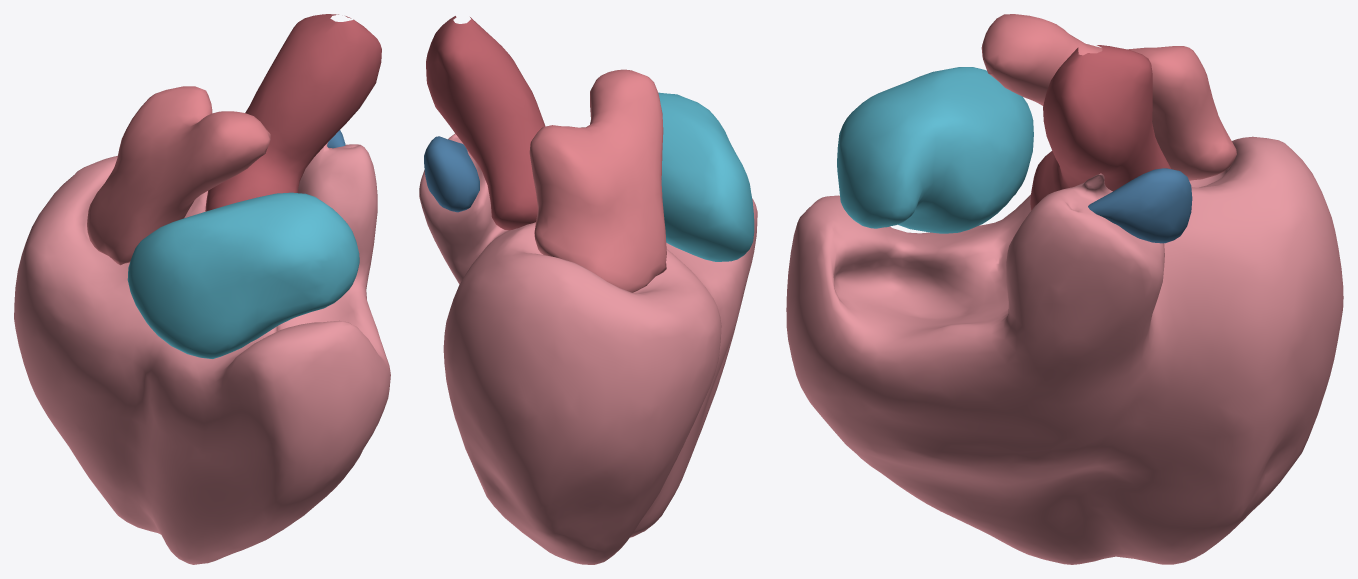
The model's file is frame_44.glb.
3 views of the same model, side by side, from view 1: azimuth 30°, elevation 25°; view 2: azimuth 150°, elevation 25°; view 3: azimuth 270°, elevation 25° (orthographic). The views are drawn at different scales.
Parts seen in each view (by area): view 1: Renderer Node; view 2: Renderer Node; view 3: Renderer Node.
Part boxes in pixels (x1,y1,x2,y2): Renderer Node: (14,14,390,564); Renderer Node: (419,16,757,564); Renderer Node: (786,14,1343,564).
Bounding box in the file's own units: 107 × 164 × 136.
